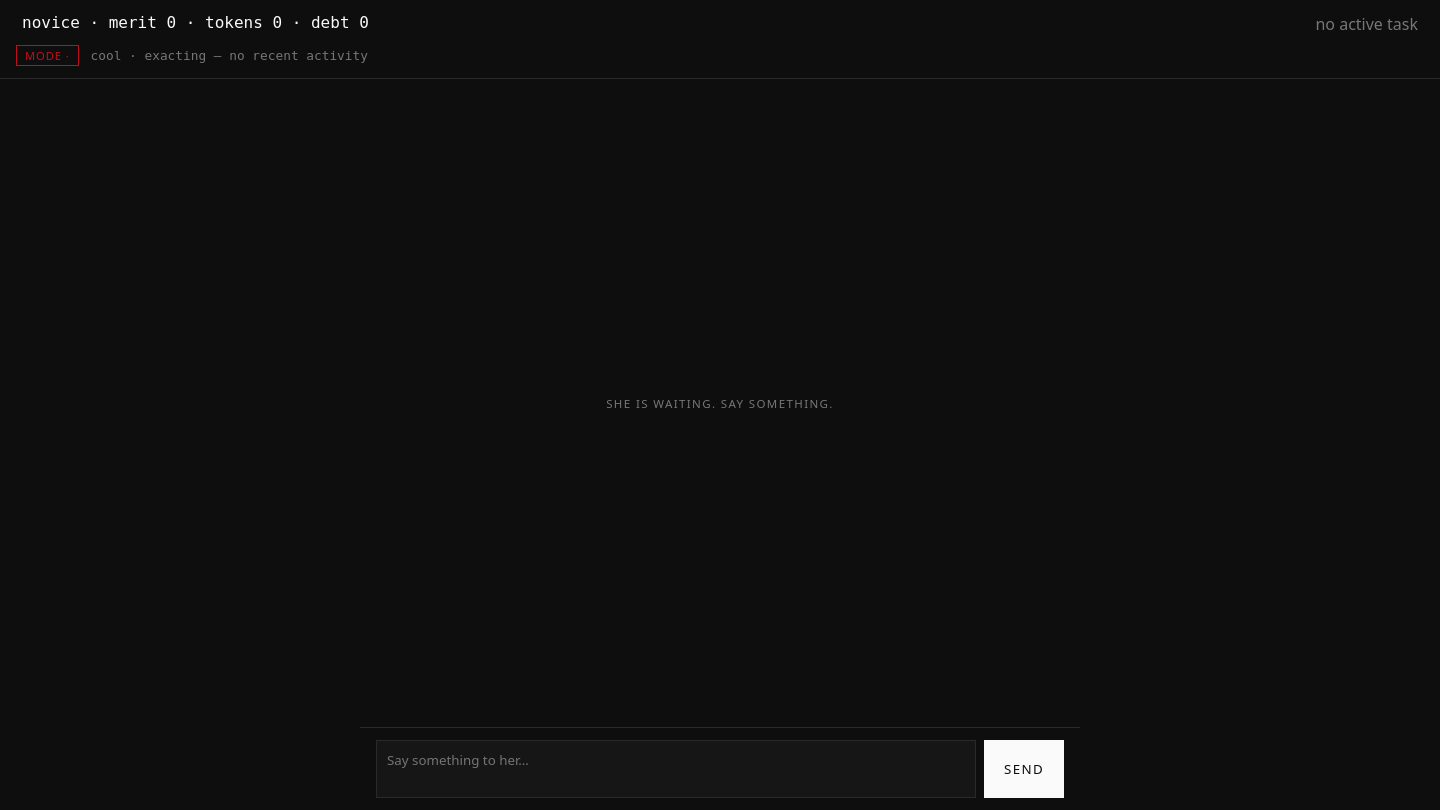
Scenario: mid-session 503 flips the home to the offline drone surface
Type "are you there?" into the text box with placeholder "Say something to her…" at {"x": 676, "y": 769}, box [376,740,976,798]
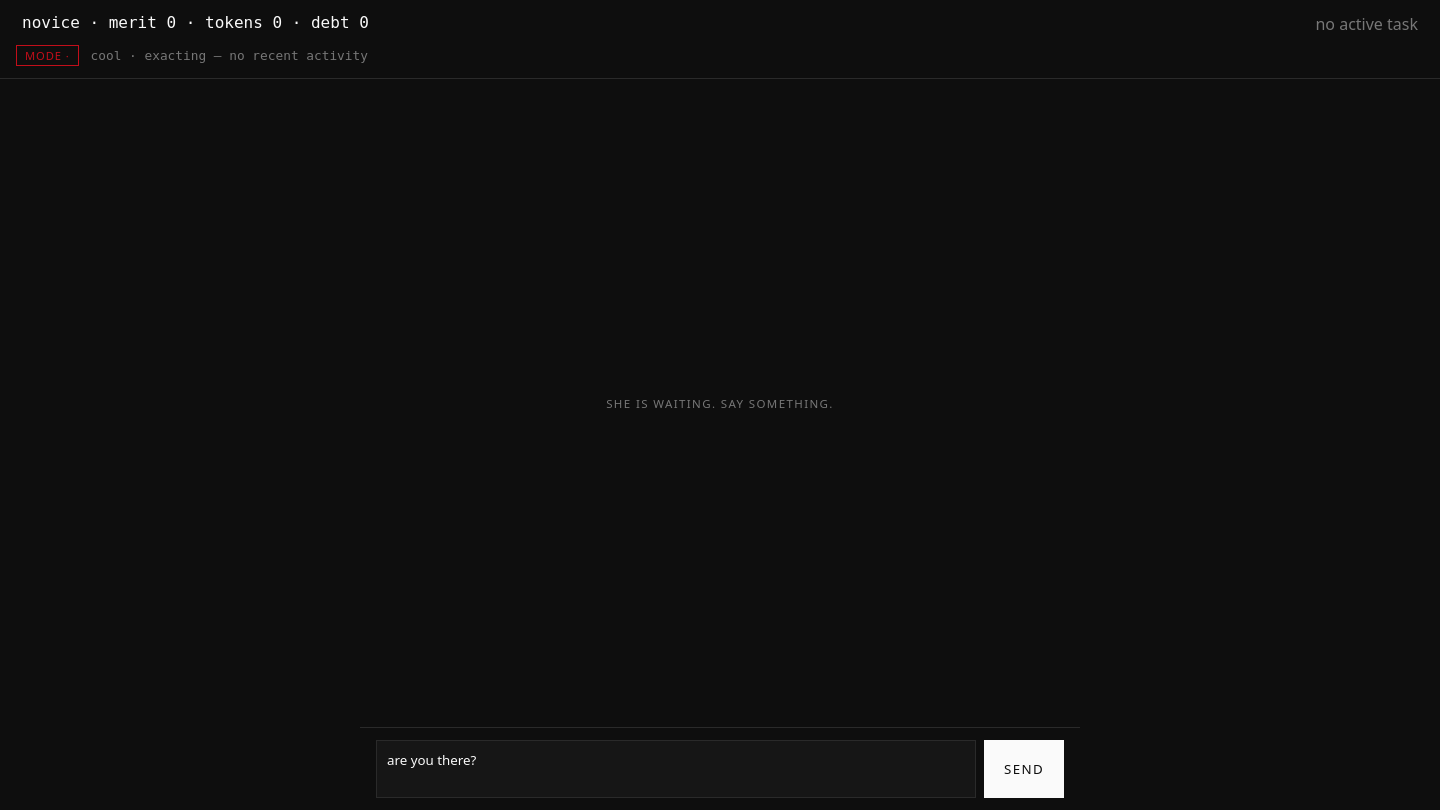
Click the button "Send" at {"x": 1024, "y": 769}, box [984,740,1064,798]
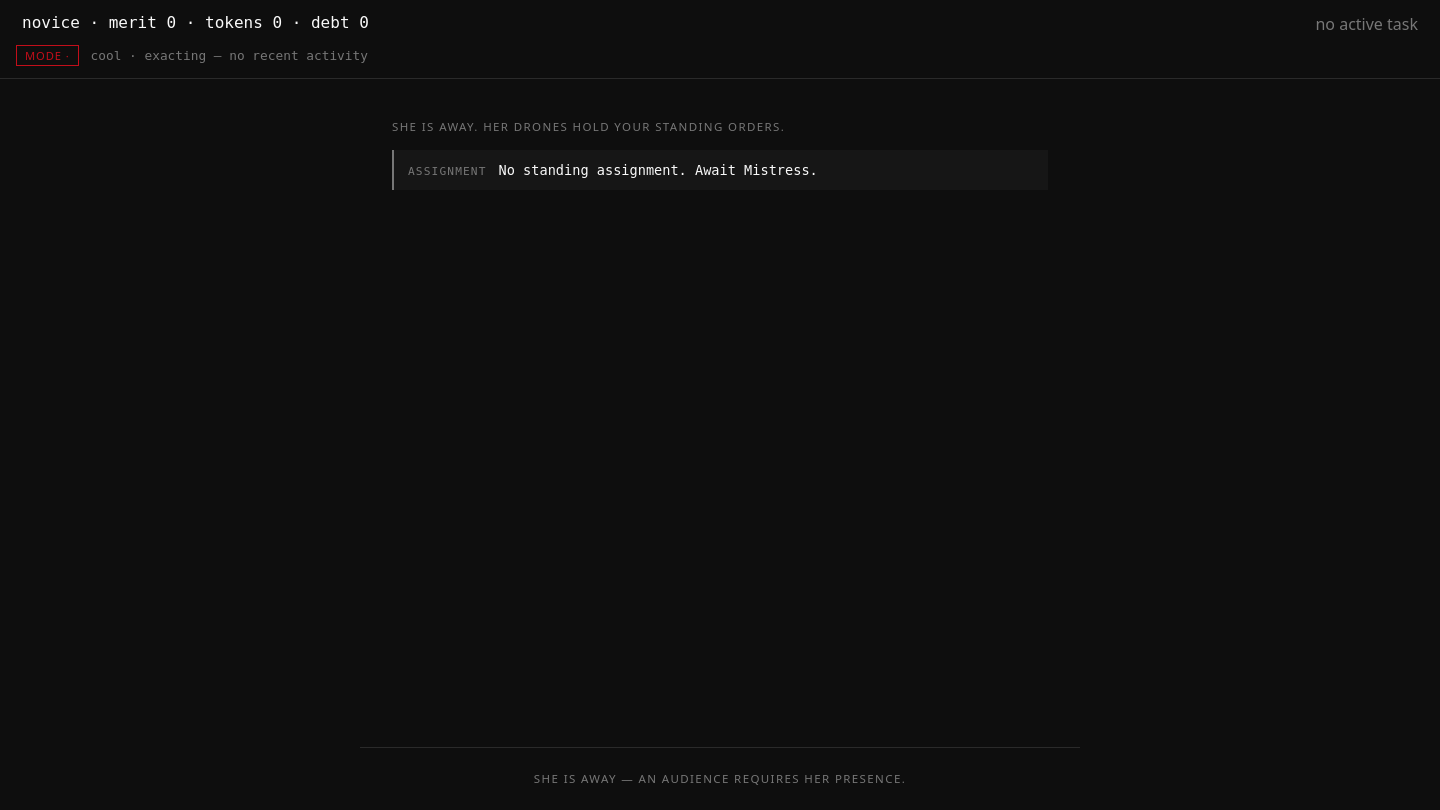
Check: the text "No standing assignment. Await Mistress." is shown, box [499,160,818,180]
Check: the text with placeholder "Say something" is gone
